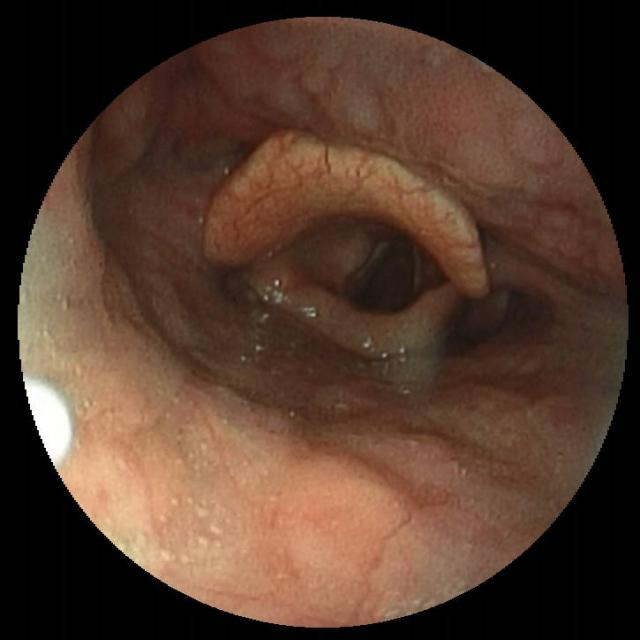arytenoid cartilagerotation: (247, 276, 465, 360)
epiglottisrotation: (200, 124, 490, 304)
larynxrotation: (344, 229, 424, 313)
